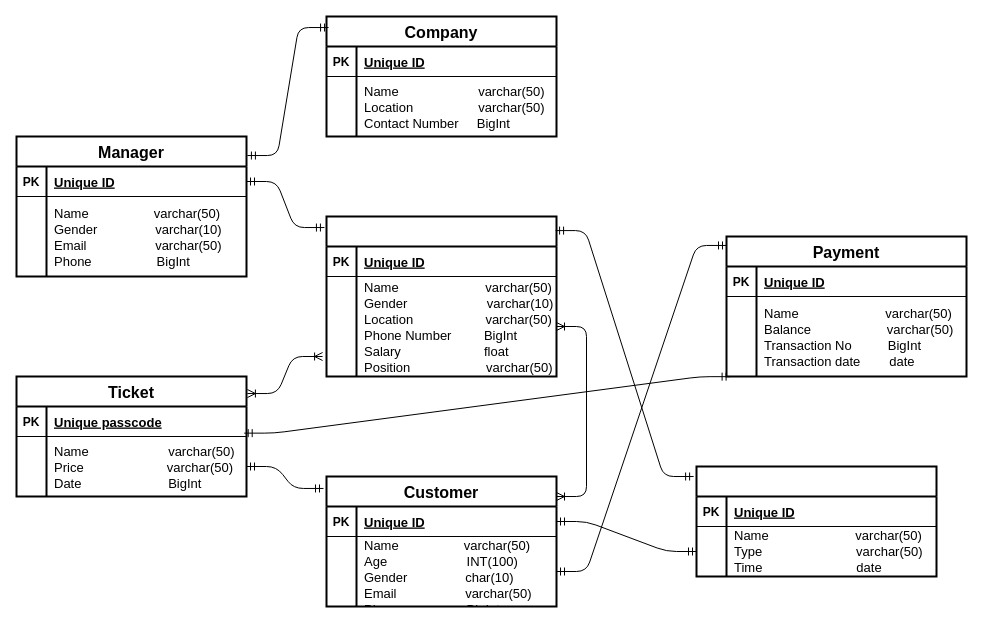
The diagram is 983 pixels wide and 633 high, and some of its shapes have lost their labels. Each missing label, with the box of its shape:
Movie: (695, 465, 937, 577)
Staff: (325, 215, 557, 377)
